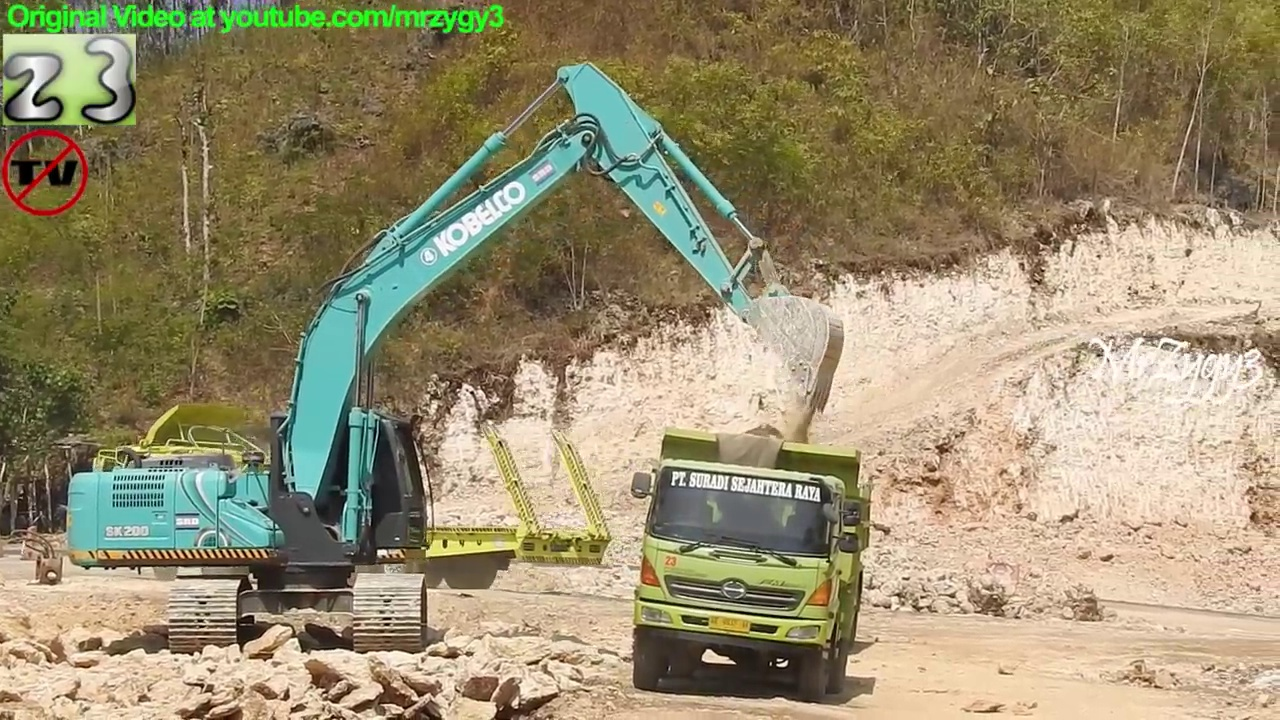excavator: (62, 58, 846, 658)
truck: (55, 400, 616, 603), (623, 424, 875, 705)
